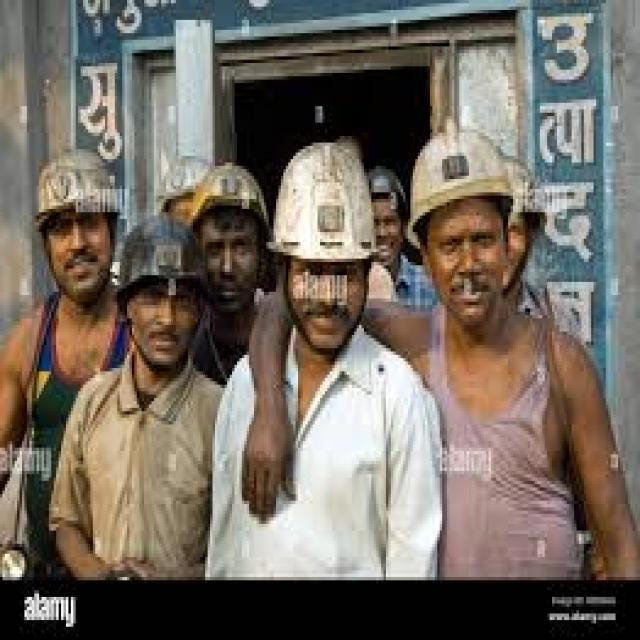safety_helmet: (263, 132, 381, 272), (405, 122, 520, 232), (22, 142, 127, 232), (183, 155, 268, 232)
